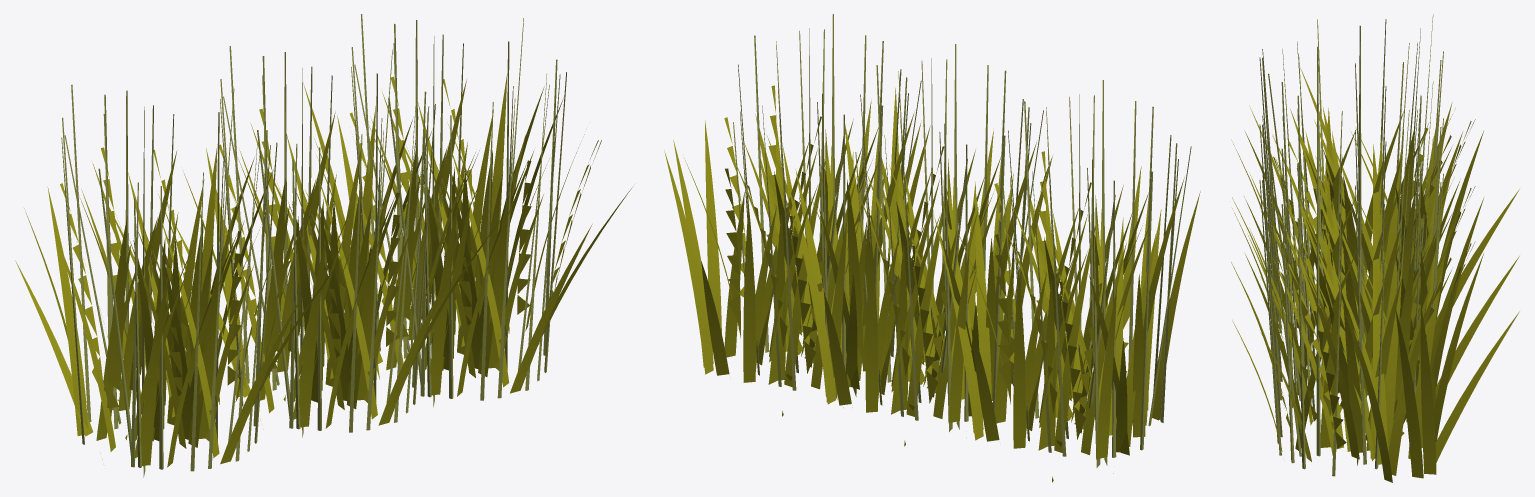
Rendered from Grau1.fbx.
3 views of the same model, side by side, from view 1: azimuth 30°, elevation 25°; view 2: azimuth 150°, elevation 25°; view 3: azimuth 270°, elevation 25° (orthographic). The views are drawn at different scales.
Visible parts, largest first — view 1: Group1; view 2: Group1; view 3: Group1.
Boxes of the visible parts, <box> form: Group1: <box>15,14,632,477</box>; Group1: <box>664,14,1200,482</box>; Group1: <box>1231,14,1519,482</box>.
Bounding box in the file's own units: 1.12 × 0.7649 × 0.6323.
